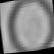no answer: (2, 0, 54, 54)
